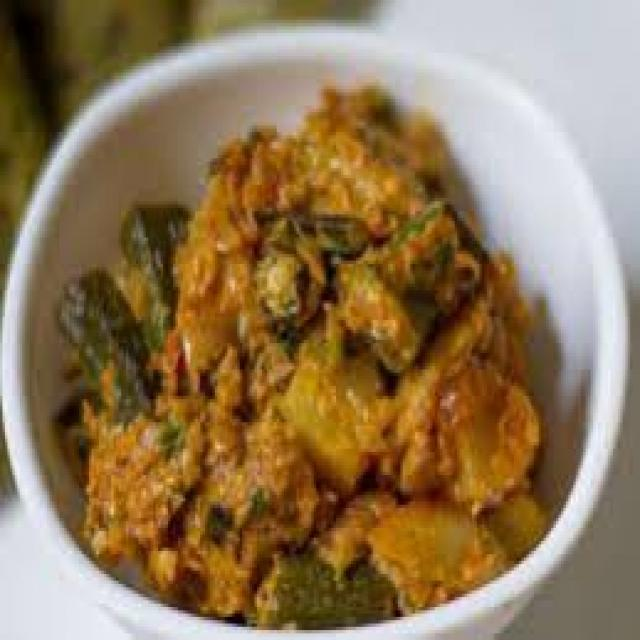Bhindi Masala: (56, 83, 544, 623)
